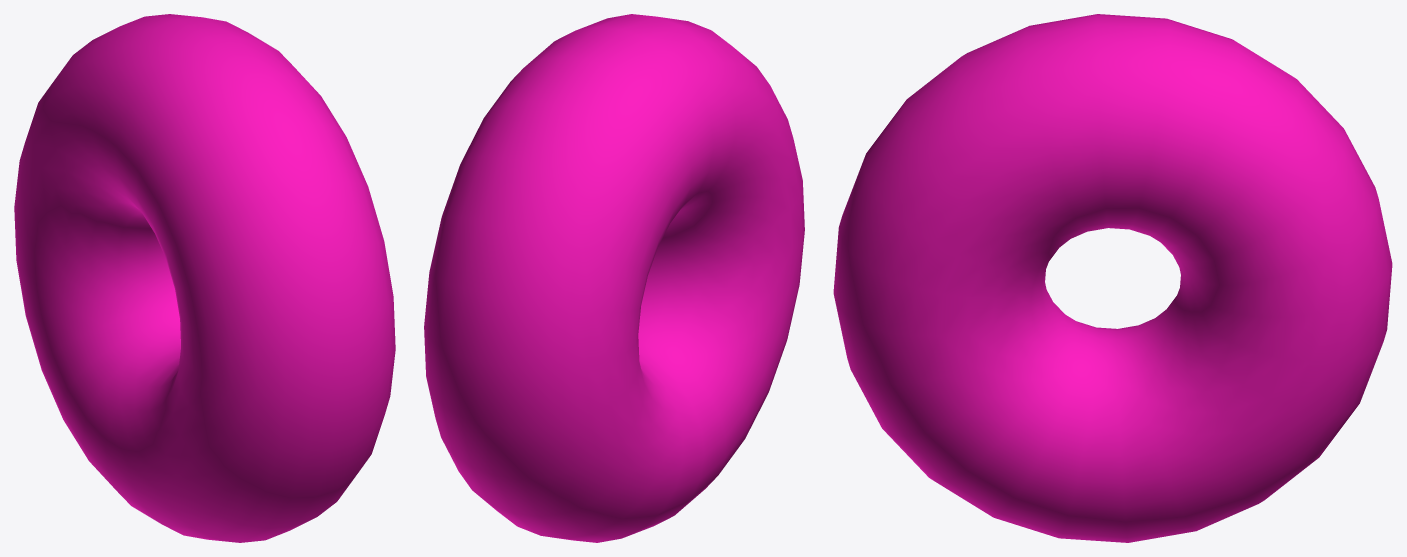
File: tape1_5.dae
3 renders of one model, left to right at view 1: azimuth 30°, elevation 25°; view 2: azimuth 150°, elevation 25°; view 3: azimuth 270°, elevation 25°, orthographic. The views are drawn at different scales.
Visible parts, largest first — view 1: tape1_019; view 2: tape1_019; view 3: tape1_019.
Part boxes in pixels (x1,y1,x2,y2): tape1_019: (14,14,395,542); tape1_019: (424,14,804,542); tape1_019: (833,14,1392,542).
Bounding box in the file's own units: 0.0739 × 0.1816 × 0.1816.
